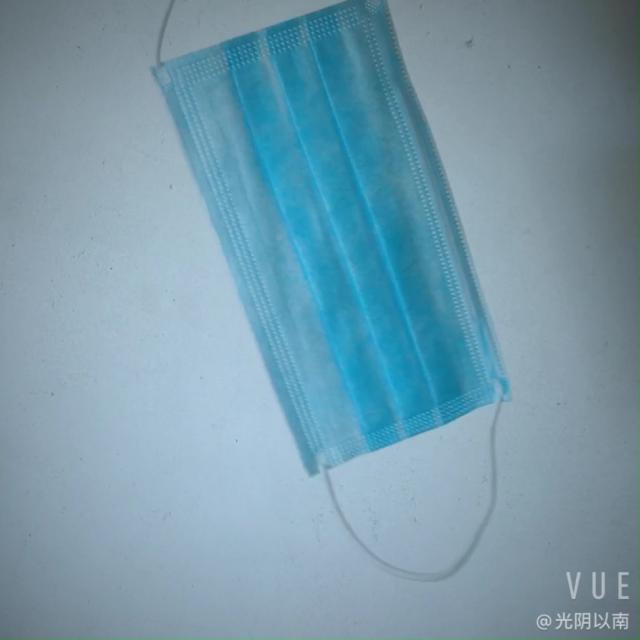non-organic waste: (155, 0, 503, 508)
